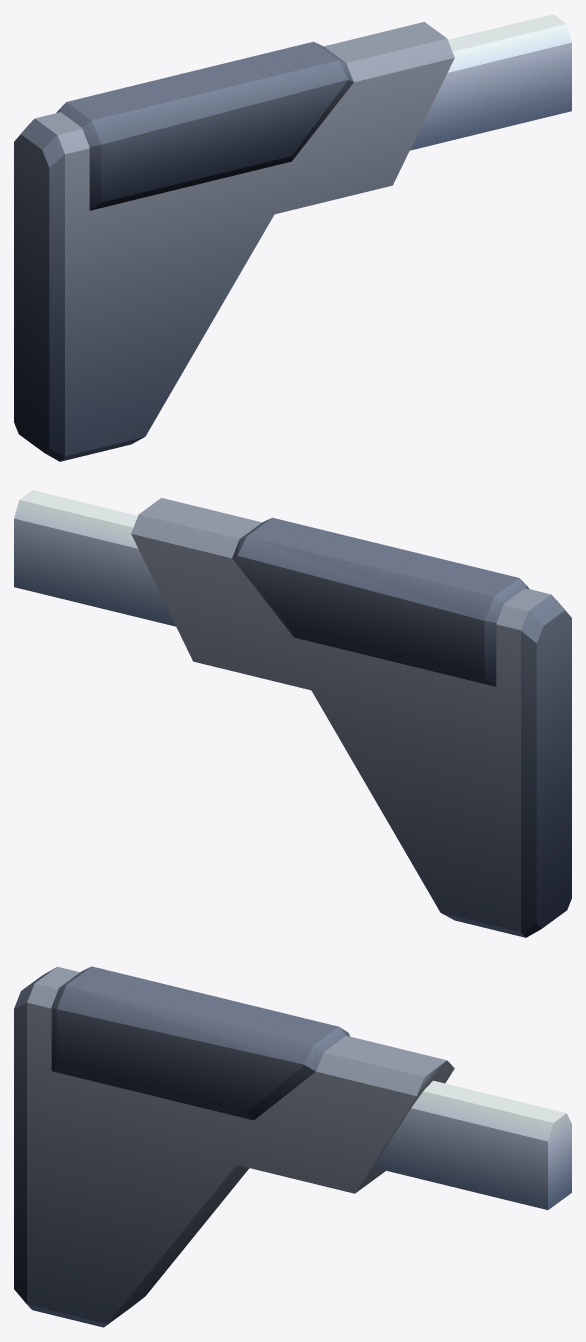
File: Stock1.FBX
3 renders of one model, top to bottom at view 1: azimuth 30°, elevation 25°; view 2: azimuth 150°, elevation 25°; view 3: azimuth 330°, elevation 25°, orthographic.
Visible parts, largest first — view 1: Box045; view 2: Box045; view 3: Box045.
Boxes of the visible parts, x1,y1,x2,y2 form: Box045: [14, 14, 571, 461]; Box045: [14, 490, 571, 937]; Box045: [14, 966, 571, 1327].
Size of the model in its own units: 16.32 by 9.81 by 2.41.
